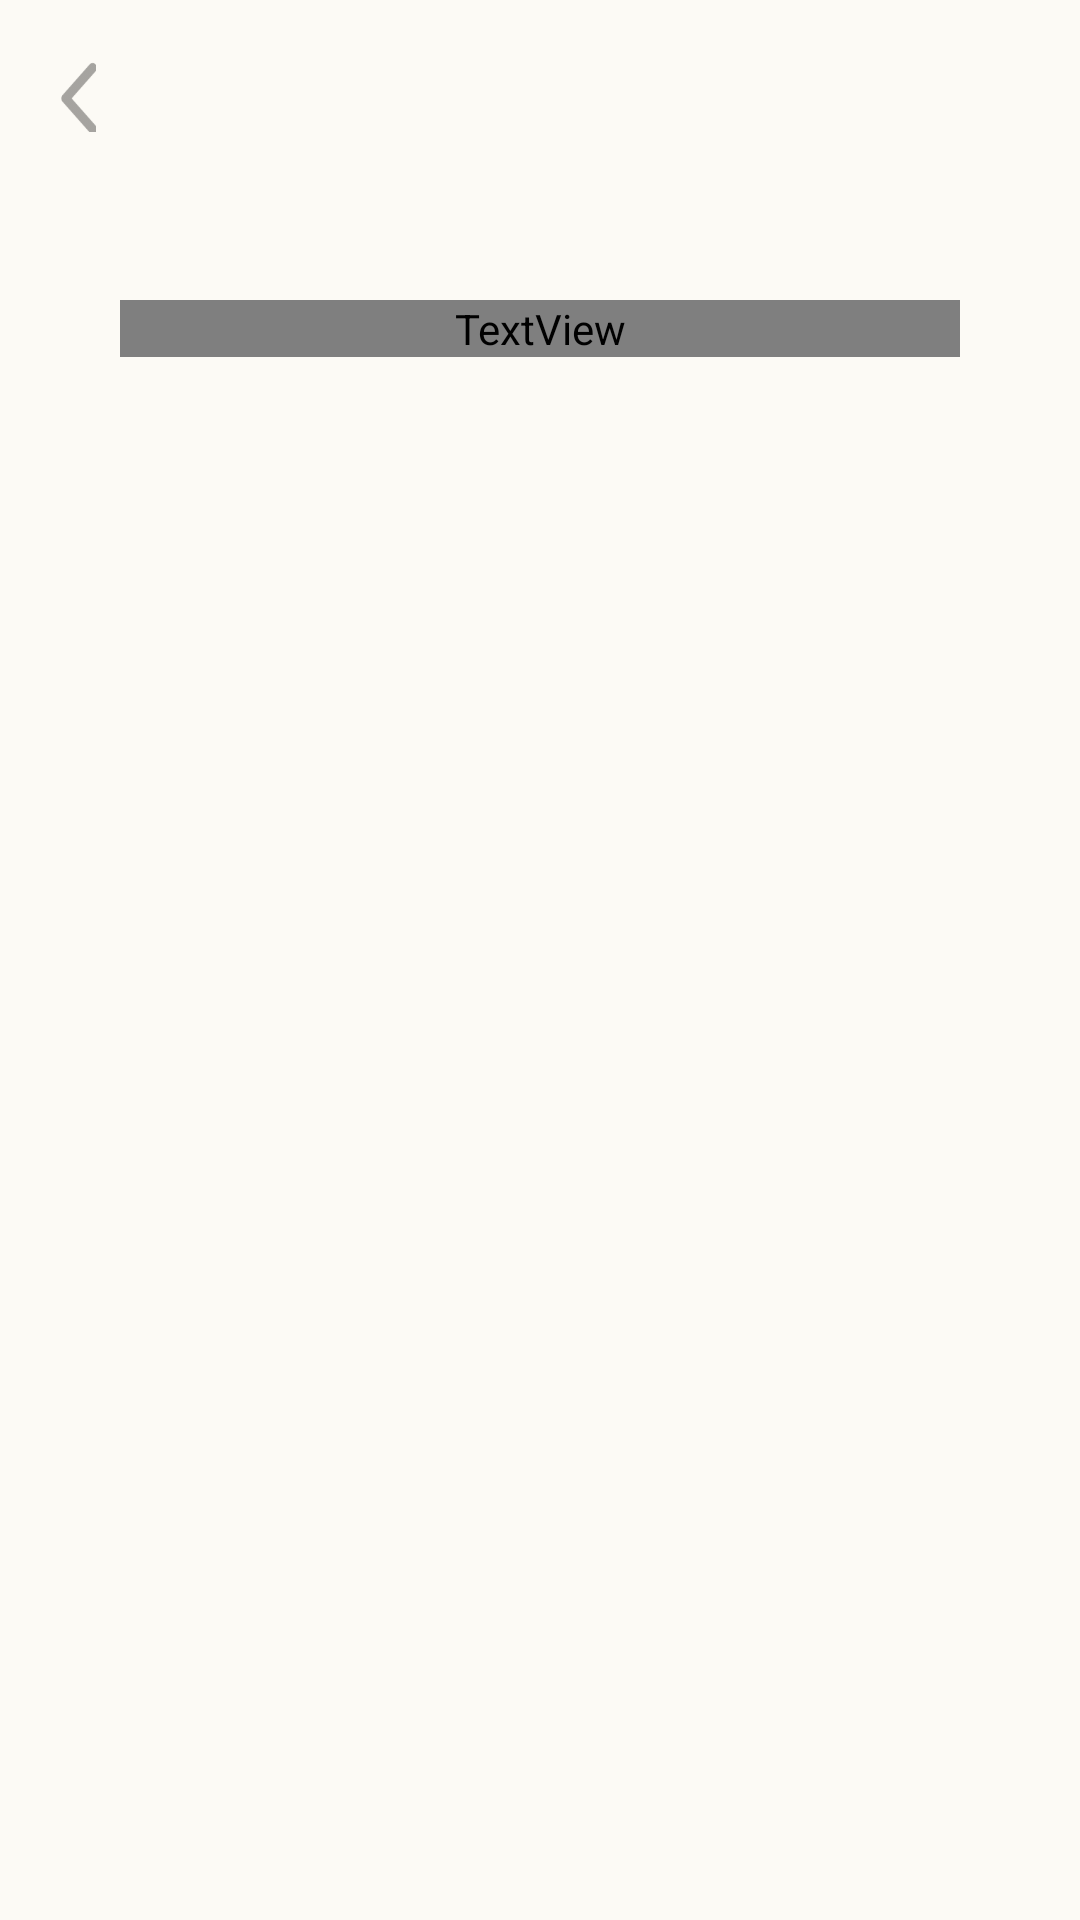

Icon bounding boxes for this 1080 × 1920 phone screenshot, format bbox(x1, y1, x2, y2):
back: bbox(61, 63, 96, 132)
